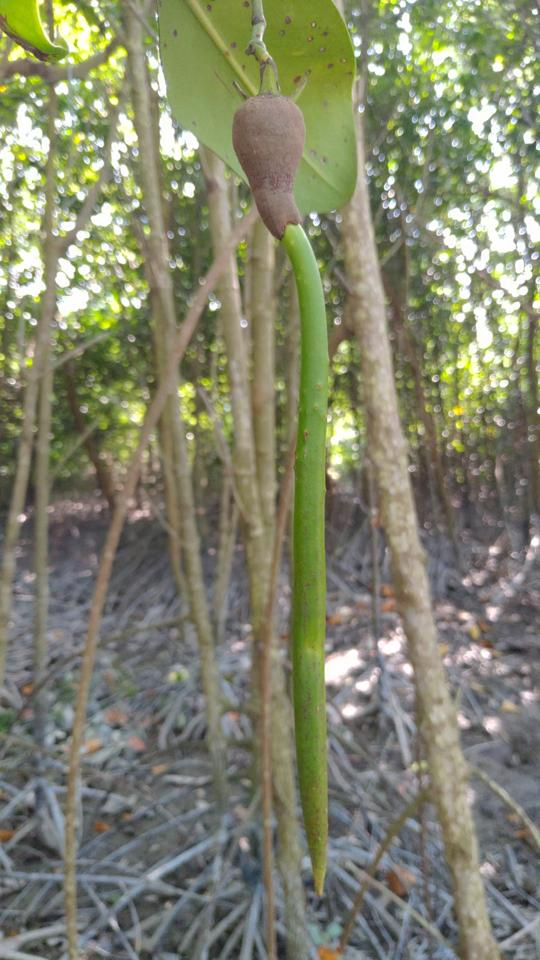mentah: (215, 48, 356, 907)
